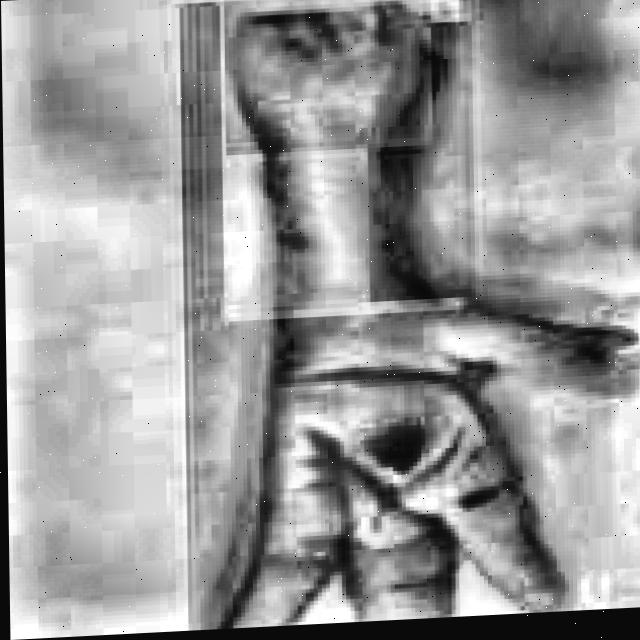Bumble foot: (186, 0, 640, 632), (366, 425, 431, 483)
